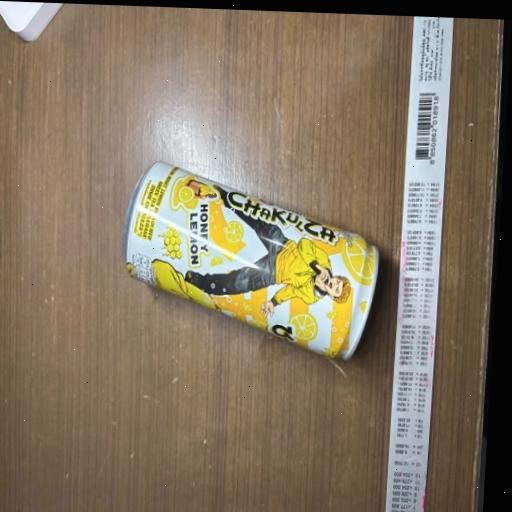bottle: (95, 122, 394, 400)
